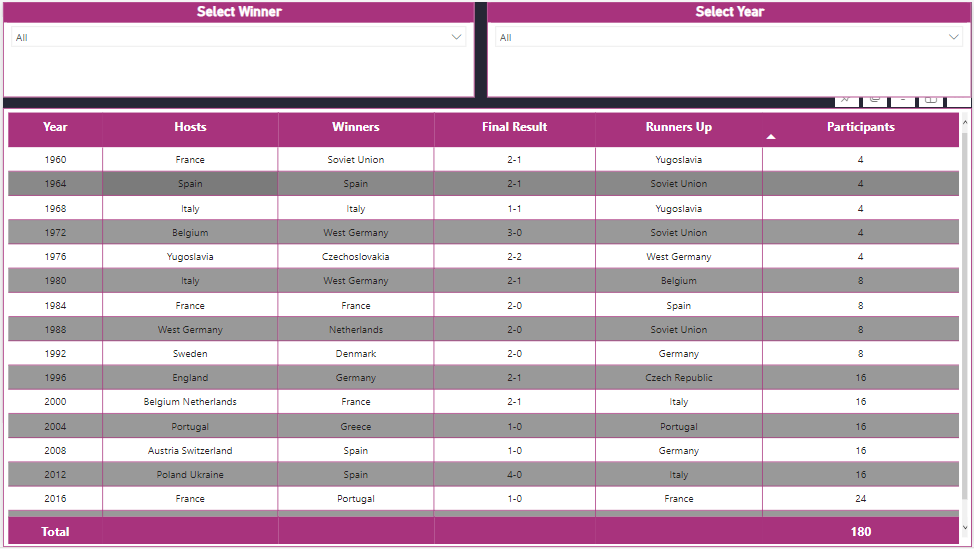

The page's visual inventory and layout, read from the dashboard file:
{"tool":"powerbi","page":{"name":"Details","canvas":[1280,720],"ordinal":1},"visuals":[{"type":"tableEx","fields":{"Values":["Cup Results.Year","Cup Results.Host","Cup Results.Winner","Cup Results.Final Result","Cup Results.Runner Up","Sum(Cup Results.Number Of Teams)"]},"box":[0,140.3,1279.8,579.7],"z":0},{"type":"actionButton","box":[0,0,100,40],"z":1000},{"type":"slicer","title":"Select Year","fields":{"Values":["Cup Results.Year"]},"box":[639.2,0,640.6,130.4],"z":2000},{"type":"slicer","title":"Select Winner","fields":{"Values":["Cup Results.Winner"]},"box":[0,0,622.2,130.4],"z":2001}]}

Visuals, with their boxes in screenshot pixels (x1, y1, x2, y2), scaled from the page's 1280x720 canvas onto the 974x549 screenshot:
tableEx - Cup Results.Year x Cup Results.Host: select_region(0, 107, 973, 548)
actionButton: select_region(0, 0, 76, 30)
"Select Year" slicer: select_region(486, 0, 973, 99)
"Select Winner" slicer: select_region(0, 0, 473, 99)
